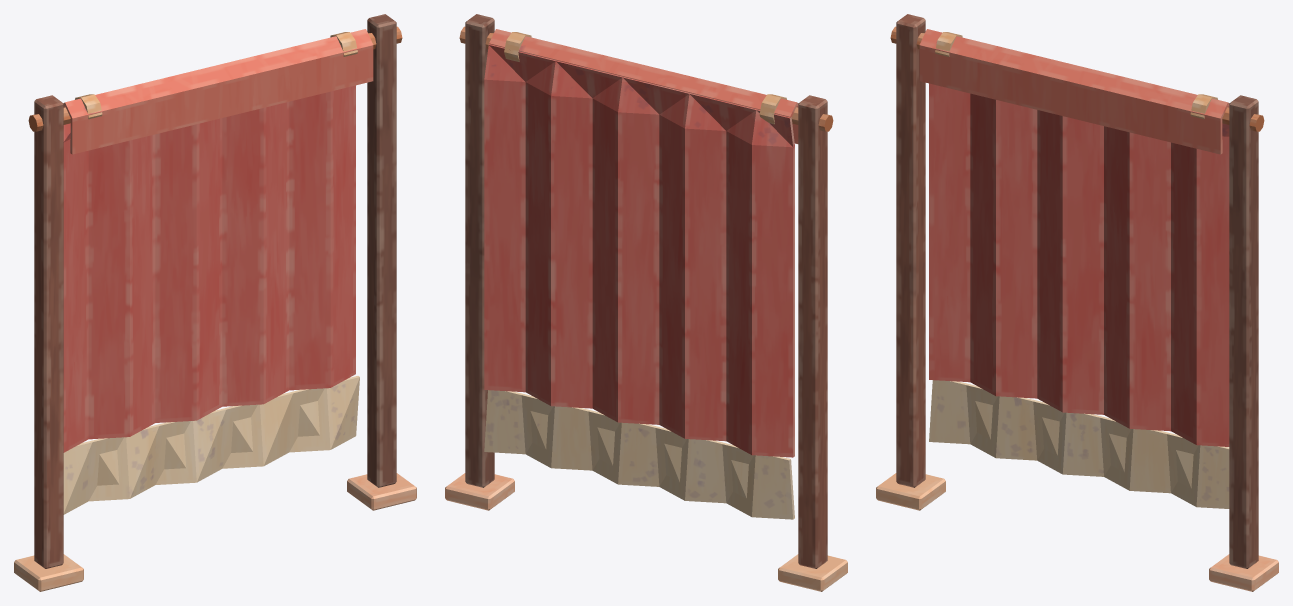
Rendered from rack_red.fbx.
The picture shows the model from 3 angles, left to right: view 1: azimuth 30°, elevation 25°; view 2: azimuth 150°, elevation 25°; view 3: azimuth 330°, elevation 25°; orthographic projection.
Visible parts, largest first — view 1: rack_red; view 2: rack_red; view 3: rack_red.
Part boxes in pixels (x1=…): rack_red: x1=14, y1=14, x2=416, y2=591; rack_red: x1=445, y1=14, x2=847, y2=591; rack_red: x1=876, y1=14, x2=1278, y2=591.
Bounding box in the file's own units: 8.3 × 10 × 1.
Materials: 1 (1 with a texture image).
